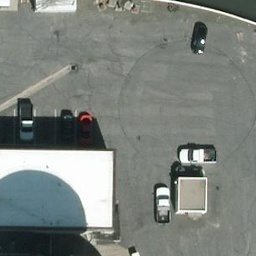car: (14, 102, 39, 146), (179, 145, 218, 166), (153, 186, 172, 223), (192, 23, 211, 55), (60, 113, 74, 150), (79, 112, 93, 149)
